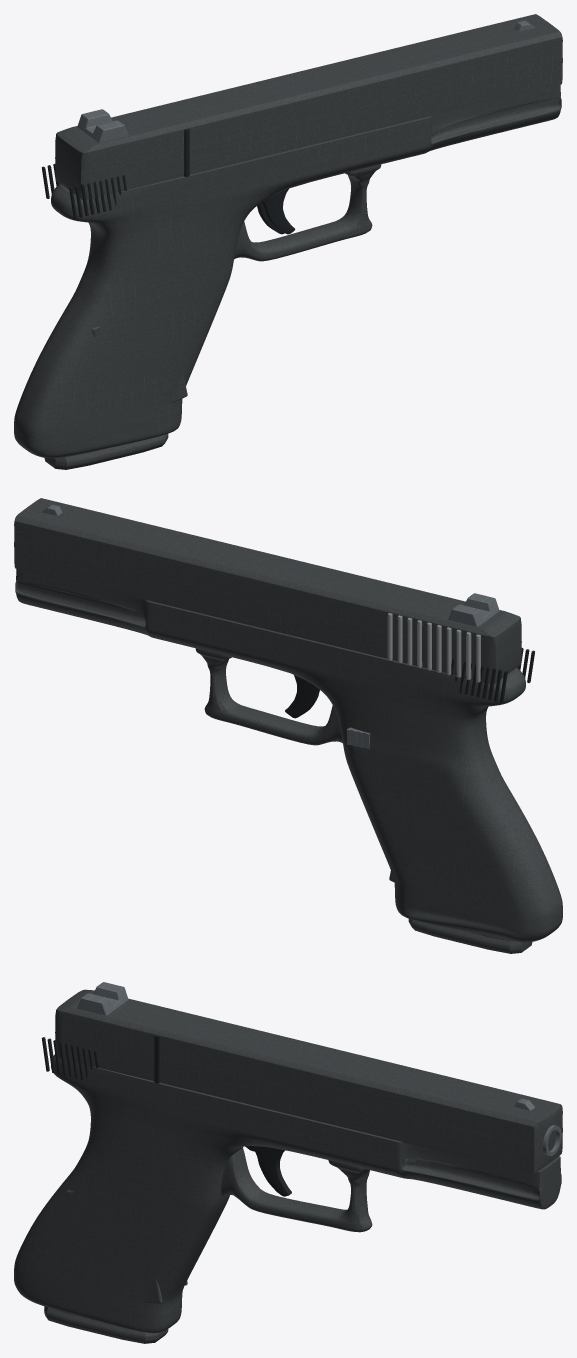
File: glock18-detail111.glb
3 views of the same model, one above another, from view 1: azimuth 30°, elevation 25°; view 2: azimuth 150°, elevation 25°; view 3: azimuth 330°, elevation 25° (orthographic).
Parts seen in each view (by area): view 1: Locarem_Glock18_authored_receiver_frame_controls; view 2: Locarem_Glock18_authored_receiver_frame_controls; view 3: Locarem_Glock18_authored_receiver_frame_controls.
Part boxes in pixels (x1,y1,x2,y2): Locarem_Glock18_authored_receiver_frame_controls: (14, 14, 562, 469); Locarem_Glock18_authored_receiver_frame_controls: (14, 498, 562, 953); Locarem_Glock18_authored_receiver_frame_controls: (14, 982, 562, 1343).
Bounding box in the file's own units: 0.2211 × 0.1323 × 0.0233.
4 materials, 2 textured.
